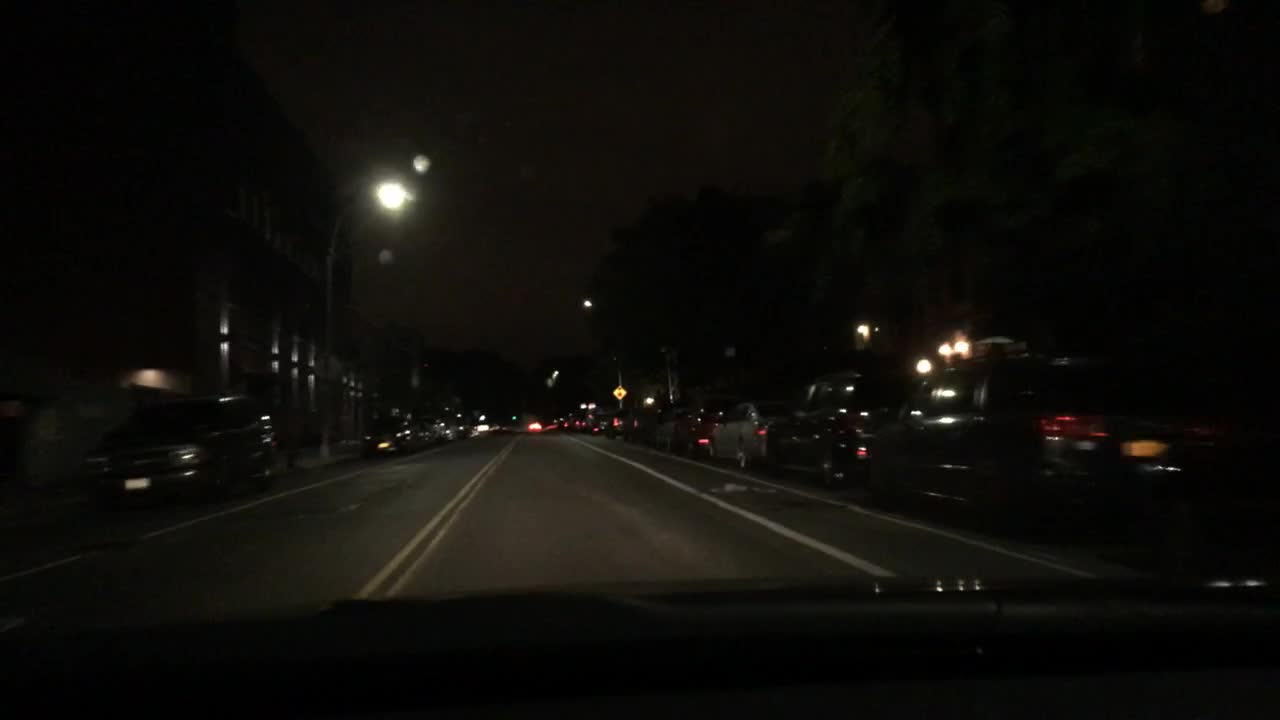car: (863, 333, 1246, 537), (81, 394, 276, 504), (797, 371, 907, 488), (705, 399, 824, 473), (362, 414, 418, 456), (654, 405, 698, 453), (686, 409, 723, 458), (605, 404, 646, 439), (630, 408, 662, 444), (403, 415, 437, 448), (446, 408, 475, 439), (412, 415, 441, 444), (580, 410, 610, 436), (433, 415, 459, 442), (470, 411, 491, 434), (571, 412, 587, 432), (527, 418, 544, 433), (563, 414, 577, 432), (489, 419, 502, 432), (552, 416, 566, 428)
traffic sign: (612, 384, 627, 399)
